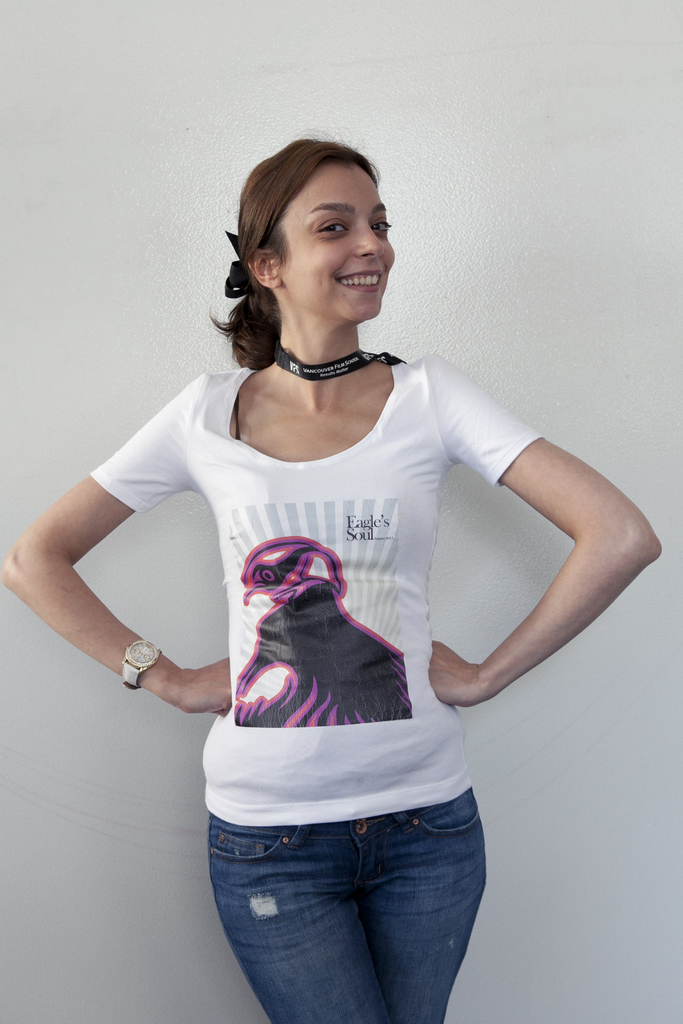Person: (0, 125, 661, 1024)
